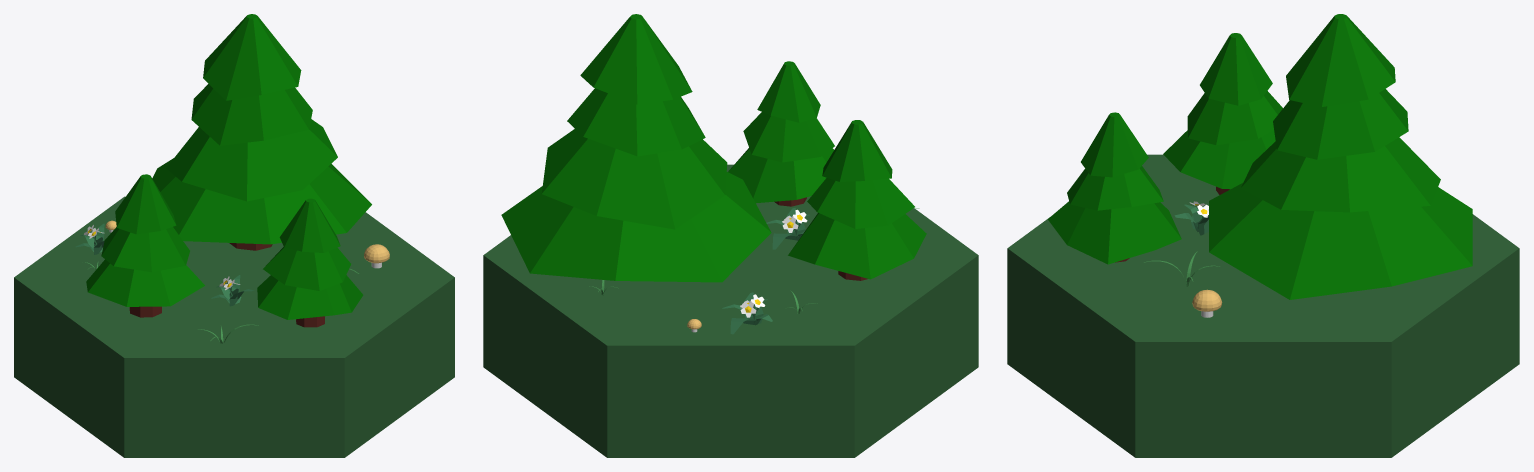
File: HexCell_Forest_1.glb
3 renders of one model, left to right at view 1: azimuth 30°, elevation 25°; view 2: azimuth 150°, elevation 25°; view 3: azimuth 270°, elevation 25°, orthographic. The views are drawn at different scales.
Parts seen in each view (by area): view 1: HexCell_Base_Forest; view 2: HexCell_Base_Forest; view 3: HexCell_Base_Forest.
Part boxes in pixels (x1=…): HexCell_Base_Forest: x1=14, y1=14, x2=454, y2=457; HexCell_Base_Forest: x1=483, y1=14, x2=978, y2=457; HexCell_Base_Forest: x1=1007, y1=14, x2=1519, y2=457.
Bounding box in the file's own units: 1.73 × 1.62 × 2.
